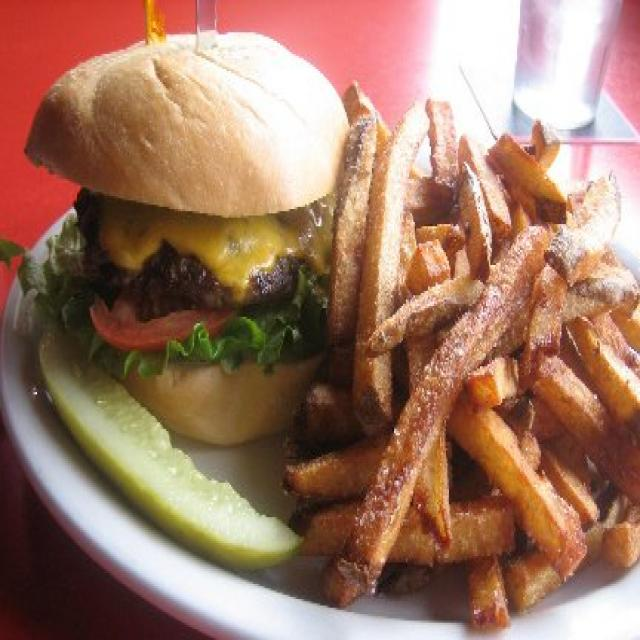Burger: (25, 20, 332, 438)
